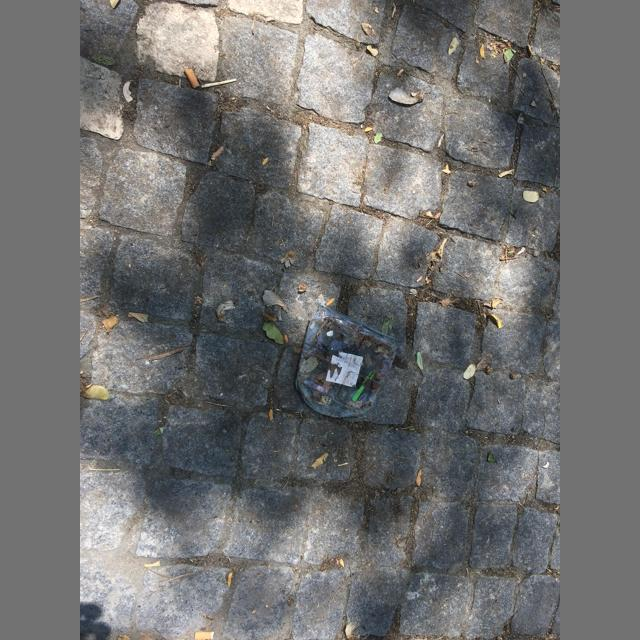litter: (297, 304, 398, 418), (184, 68, 199, 88), (194, 632, 214, 639)
